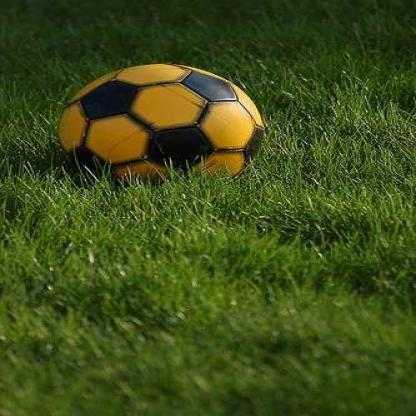ball: (60, 64, 266, 184)
